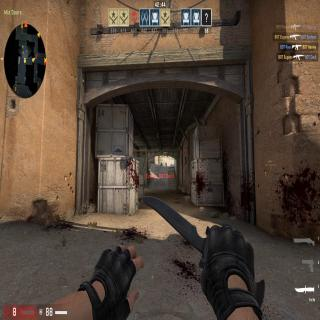CT-Body: (160, 162, 162, 166)
CT-Head: (161, 162, 162, 164)
